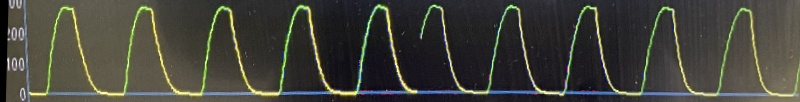normal_volume: (19, 0, 800, 102)
